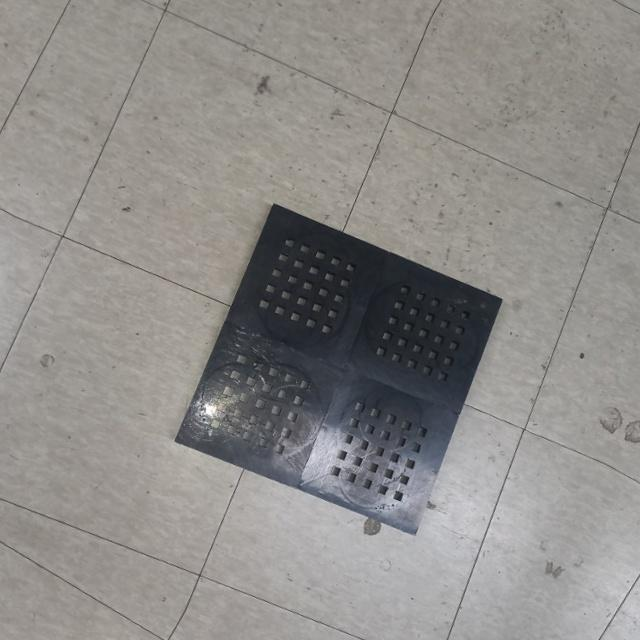pallet: (153, 180, 538, 562)
